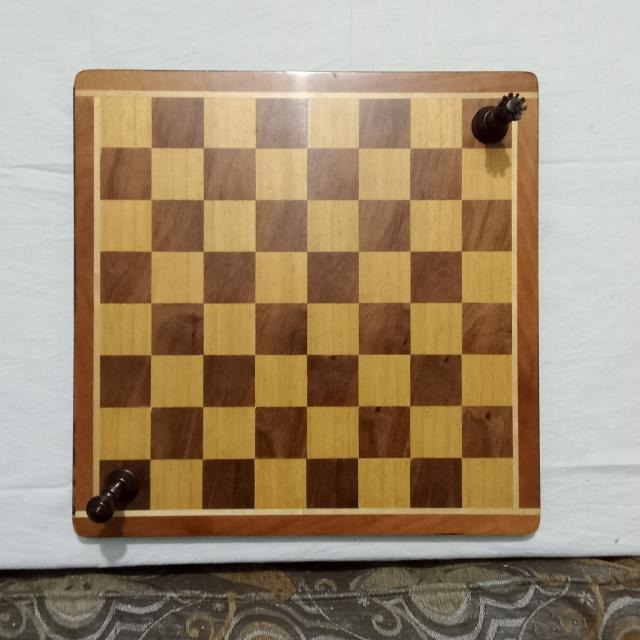black-king: (87, 467, 141, 527)
black-queen: (472, 91, 527, 146)
